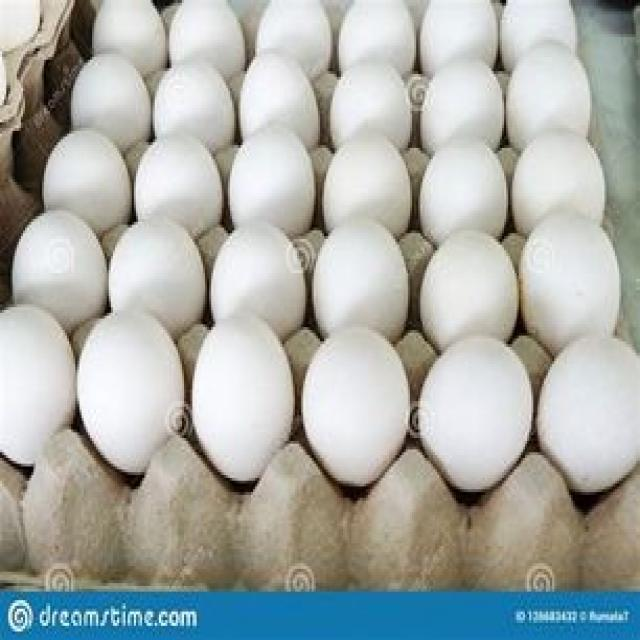Egg: (305, 333, 418, 517), (194, 318, 302, 490), (106, 204, 211, 346), (311, 214, 415, 352), (210, 208, 318, 338), (236, 46, 329, 154)
